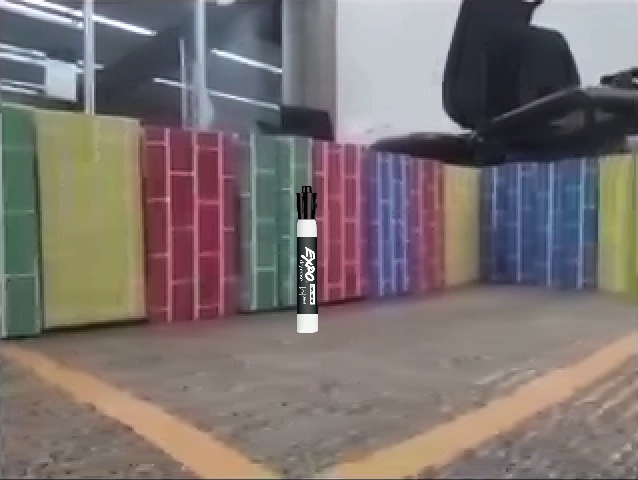cube: (425, 310, 549, 440)
